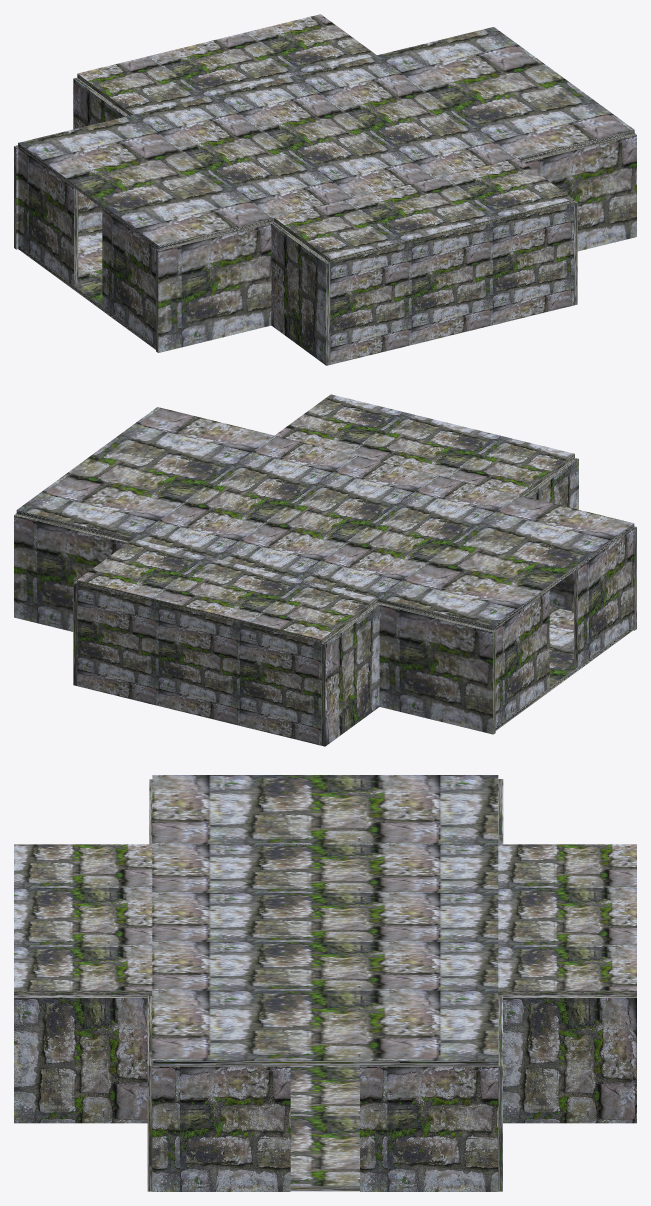
File: RoomV5.FBX
The picture shows the model from 3 angles, top to bottom: view 1: azimuth 30°, elevation 25°; view 2: azimuth 150°, elevation 25°; view 3: azimuth 270°, elevation 25°; orthographic projection. The views are drawn at different scales.
Visible parts, largest first — view 1: Box029, Box009, Box038, Box039, Box031, Box030, Box013, Box014, Box007, Box019, Box018, Box010 (+2 smaller); view 2: Box029, Box008, Box038, Box039, Box030, Box031, Box012, Box015, Box004, Box018, Box019, Box010 (+3 smaller); view 3: Box029, Box039, Box038, Box030, Box031, Box016, Box017, Box005, Box006, Box011, Box001, Box014 (+1 smaller).
Part boxes in pixels (bbox=[...]): Box029: bbox=[134, 55, 517, 217]; Box009: bbox=[328, 203, 573, 364]; Box038: bbox=[18, 115, 273, 249]; Box039: bbox=[377, 27, 634, 161]; Box031: bbox=[274, 158, 573, 262]; Box030: bbox=[77, 14, 376, 115]; Box013: bbox=[156, 222, 274, 352]; Box014: bbox=[522, 133, 636, 251]; Box007: bbox=[271, 222, 330, 365]; Box019: bbox=[18, 147, 78, 285]; Box018: bbox=[102, 209, 157, 345]; Box010: bbox=[18, 225, 155, 349]; Box029: bbox=[134, 435, 516, 597]; Box008: bbox=[77, 583, 321, 745]; Box038: bbox=[377, 494, 634, 630]; Box039: bbox=[16, 407, 274, 541]; Box030: bbox=[77, 538, 377, 642]; Box031: bbox=[275, 394, 574, 495]; Box012: bbox=[376, 602, 495, 734]; Box015: bbox=[14, 514, 128, 631]; Box004: bbox=[321, 602, 379, 746]; Box018: bbox=[574, 528, 633, 666]; Box019: bbox=[494, 589, 549, 726]; Box010: bbox=[495, 606, 633, 730]; Box029: bbox=[152, 844, 498, 990]; Box039: bbox=[152, 990, 498, 1065]; Box038: bbox=[152, 775, 498, 845]; Box030: bbox=[498, 844, 636, 995]; Box031: bbox=[14, 844, 152, 995]; Box016: bbox=[152, 1065, 290, 1191]; Box017: bbox=[360, 1065, 498, 1191]; Box005: bbox=[498, 995, 636, 1123]; Box006: bbox=[14, 995, 151, 1123]; Box011: bbox=[290, 1116, 359, 1191]; Box001: bbox=[290, 1065, 359, 1115]; Box014: bbox=[147, 996, 152, 1191].
Size of the model in its own units: 2459 by 520 by 2251.
9 materials, 9 textured.
